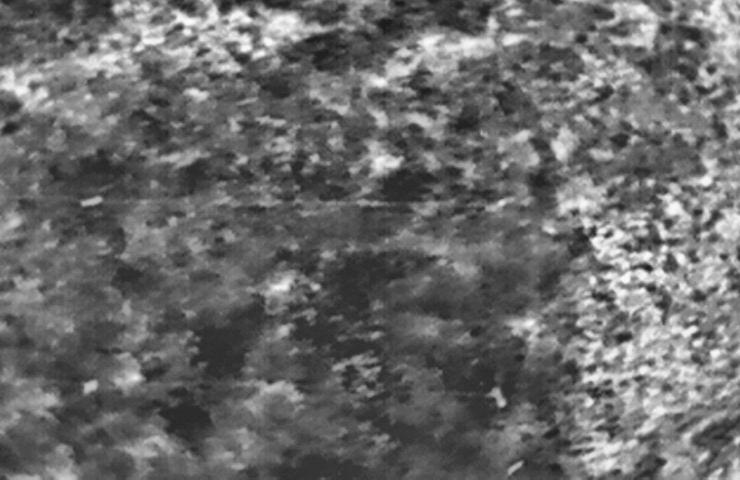landmines: (262, 266, 310, 310)
